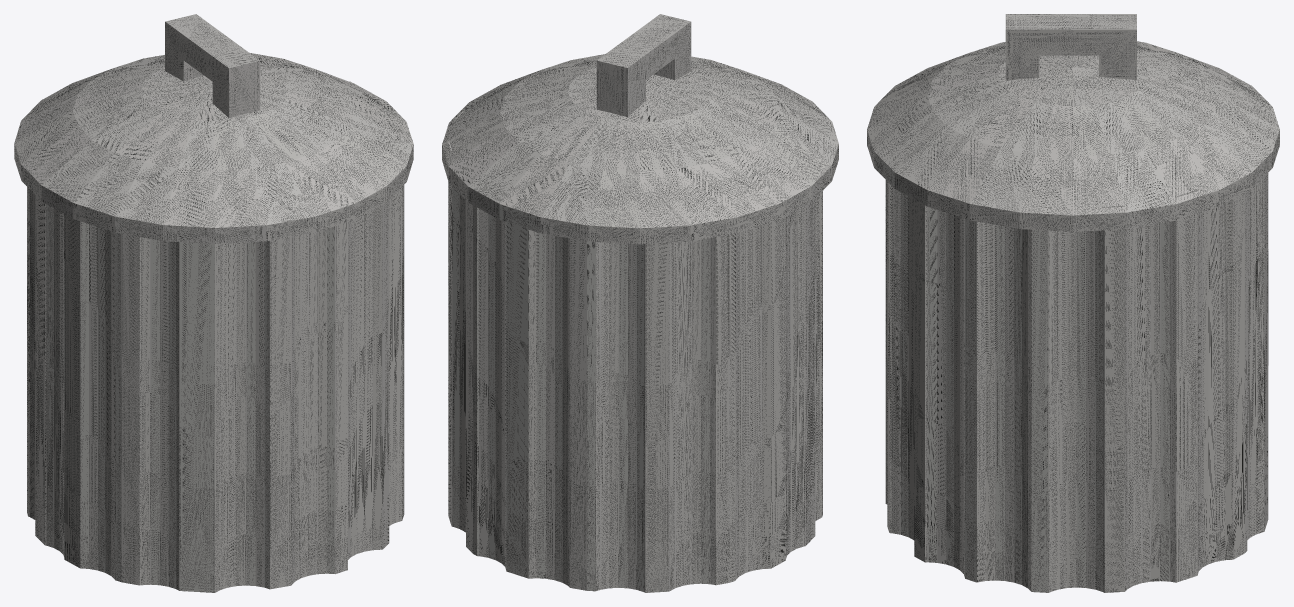
3 renders of one model, left to right at view 1: azimuth 30°, elevation 25°; view 2: azimuth 150°, elevation 25°; view 3: azimuth 270°, elevation 25°, orthographic. The views are drawn at different scales.
Visible parts, largest first — view 1: mesh1_mesh1-geometry, mesh2_mesh2-geometry, mesh3_mesh3-geometry; view 2: mesh1_mesh1-geometry, mesh2_mesh2-geometry, mesh3_mesh3-geometry; view 3: mesh1_mesh1-geometry, mesh2_mesh2-geometry, mesh3_mesh3-geometry.
Boxes of the visible parts, box(x1,y1,x2,y2) form: mesh1_mesh1-geometry: box(27, 81, 404, 592); mesh2_mesh2-geometry: box(14, 52, 413, 243); mesh3_mesh3-geometry: box(165, 14, 260, 118); mesh1_mesh1-geometry: box(448, 86, 822, 592); mesh2_mesh2-geometry: box(442, 54, 838, 244); mesh3_mesh3-geometry: box(596, 14, 691, 117); mesh1_mesh1-geometry: box(885, 167, 1268, 592); mesh2_mesh2-geometry: box(867, 41, 1279, 231); mesh3_mesh3-geometry: box(1005, 14, 1136, 80).
Bounding box in the file's own units: 0.516 × 0.6798 × 0.5211.
